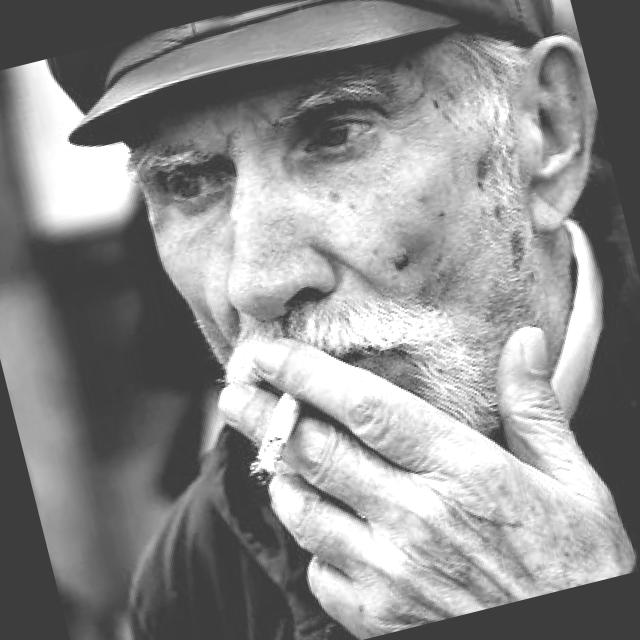cigarette: (222, 384, 324, 490)
